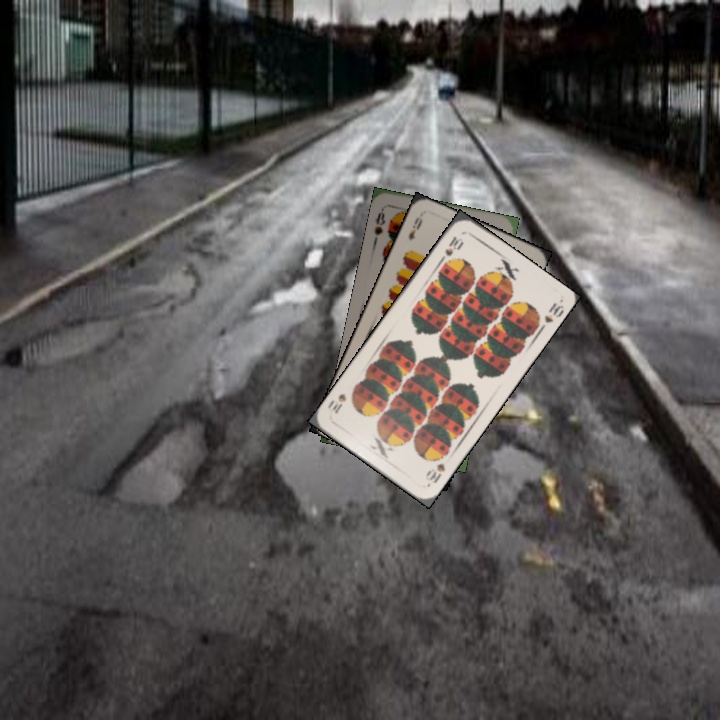E9: (404, 213, 425, 243)
S10: (436, 232, 465, 265), (423, 459, 448, 486)
S8: (370, 204, 388, 238)
